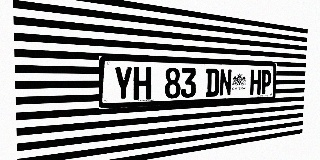3: (181, 68, 196, 98)
8: (165, 67, 181, 99)
D: (205, 68, 219, 97)
H: (133, 67, 151, 100), (250, 69, 261, 95)
N: (219, 69, 232, 96)
P: (261, 70, 271, 94)
Y: (113, 66, 133, 101)
